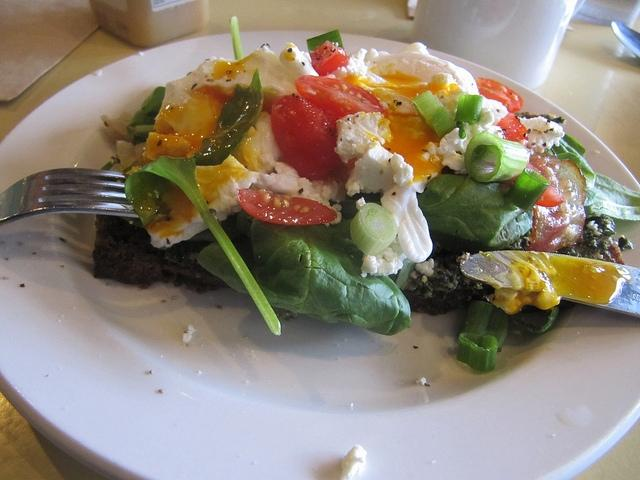green onion: (464, 132, 530, 182), (350, 203, 398, 256), (412, 89, 458, 138), (505, 168, 551, 210), (456, 332, 498, 372), (454, 95, 485, 125), (306, 30, 344, 52), (456, 121, 466, 139)
tomato: (271, 74, 389, 182), (236, 188, 338, 226), (503, 162, 566, 206), (476, 77, 524, 112), (310, 40, 350, 77), (496, 113, 528, 150)
